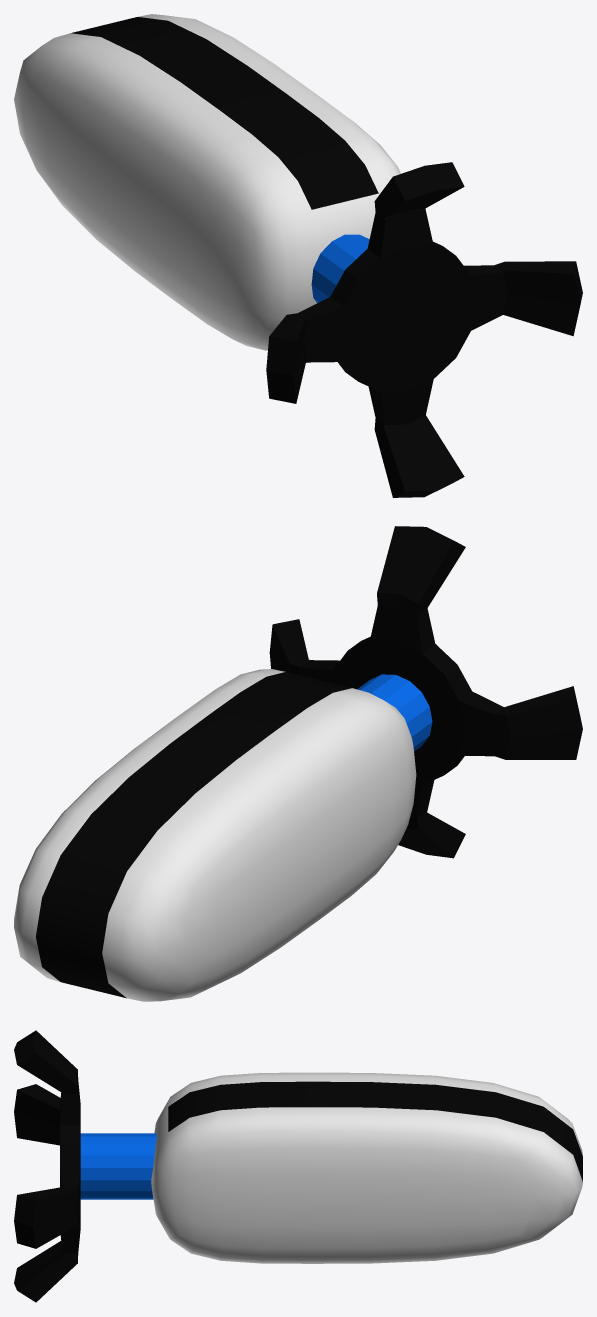
File: portalgun.fbx
3 views of the same model, one above another, from view 1: azimuth 30°, elevation 25°; view 2: azimuth 150°, elevation 25°; view 3: azimuth 270°, elevation 25° (orthographic). The views are drawn at different scales.
Visible parts, largest first — view 1: Cube; view 2: Cube; view 3: Cube.
Part boxes in pixels (x1,y1,x2,y2): Cube: [14, 14, 582, 497]; Cube: [14, 526, 582, 1001]; Cube: [14, 1030, 582, 1302].
Size of the model in its own units: 3.44 by 6.88 by 3.44.
